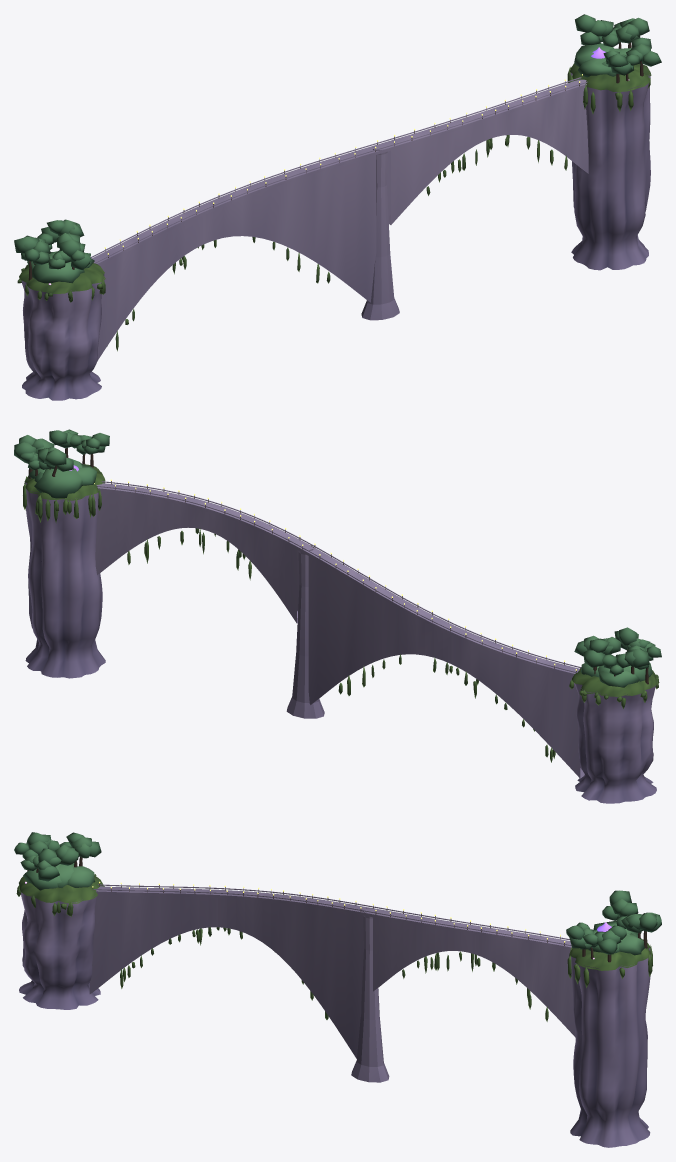
The model's file is risebridge.glb.
3 renders of one model, top to bottom at view 1: azimuth 30°, elevation 25°; view 2: azimuth 150°, elevation 25°; view 3: azimuth 330°, elevation 25°, orthographic.
Parts seen in each view (by area): view 1: hero_valley_stone, hero_valley_rock, hero_valley_leaf, hero_valley_moss; view 2: hero_valley_stone, hero_valley_rock, hero_valley_leaf, hero_valley_moss; view 3: hero_valley_stone, hero_valley_rock, hero_valley_leaf, hero_valley_moss, hero_valley_bark.
Part boxes in pixels (x1=…): hero_valley_stone: x1=90, y1=77, x2=588, y2=360; hero_valley_rock: x1=21, y1=73, x2=650, y2=400; hero_valley_leaf: x1=14, y1=14, x2=661, y2=283; hero_valley_moss: x1=17, y1=63, x2=651, y2=351; hero_valley_stone: x1=95, y1=481, x2=584, y2=778; hero_valley_rock: x1=25, y1=482, x2=656, y2=803; hero_valley_leaf: x1=14, y1=429, x2=661, y2=687; hero_valley_moss: x1=23, y1=464, x2=659, y2=762; hero_valley_stone: x1=89, y1=884, x2=575, y2=1082; hero_valley_rock: x1=19, y1=892, x2=650, y2=1147; hero_valley_leaf: x1=14, y1=832, x2=661, y2=955; hero_valley_moss: x1=16, y1=874, x2=652, y2=1021; hero_valley_bark: x1=27, y1=857, x2=647, y2=962.
Bounding box in the file's own units: 484 × 167 × 65.42.
